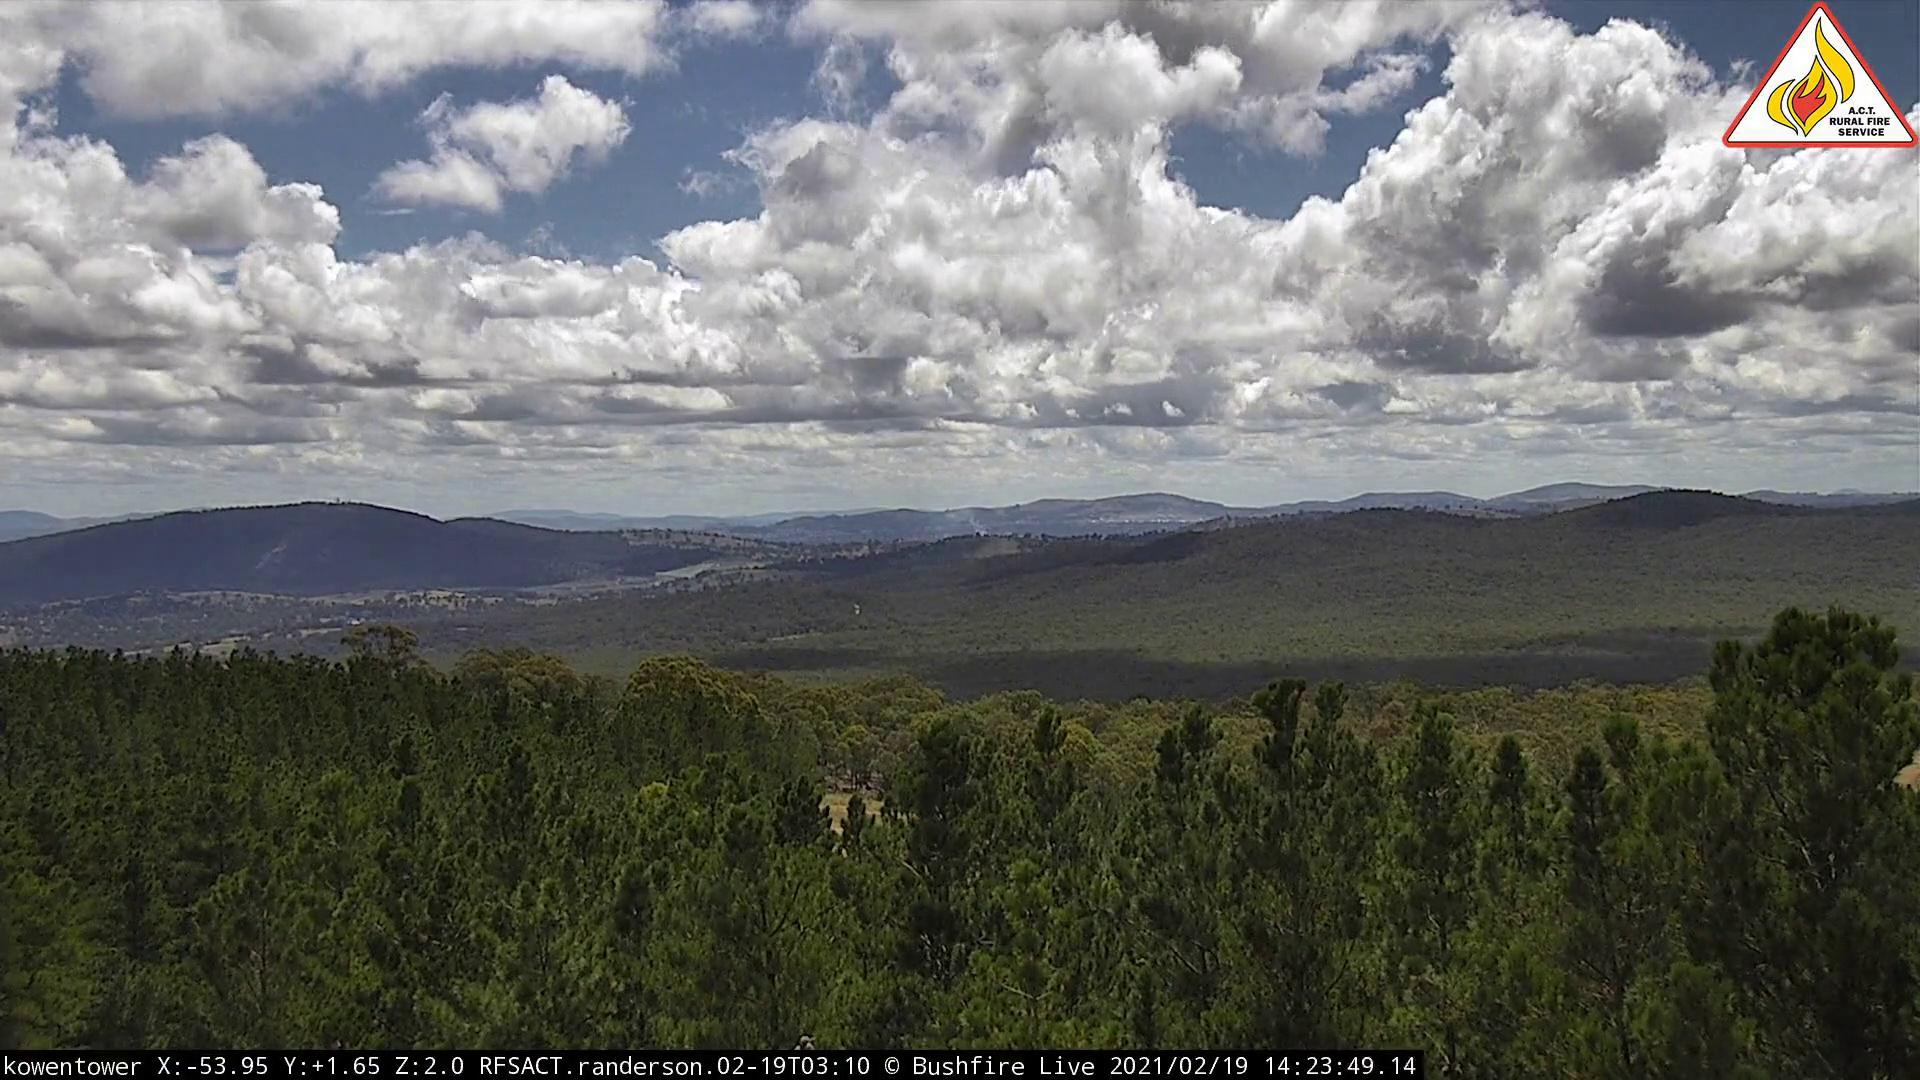instance_salient_object: (938, 489, 996, 545)
